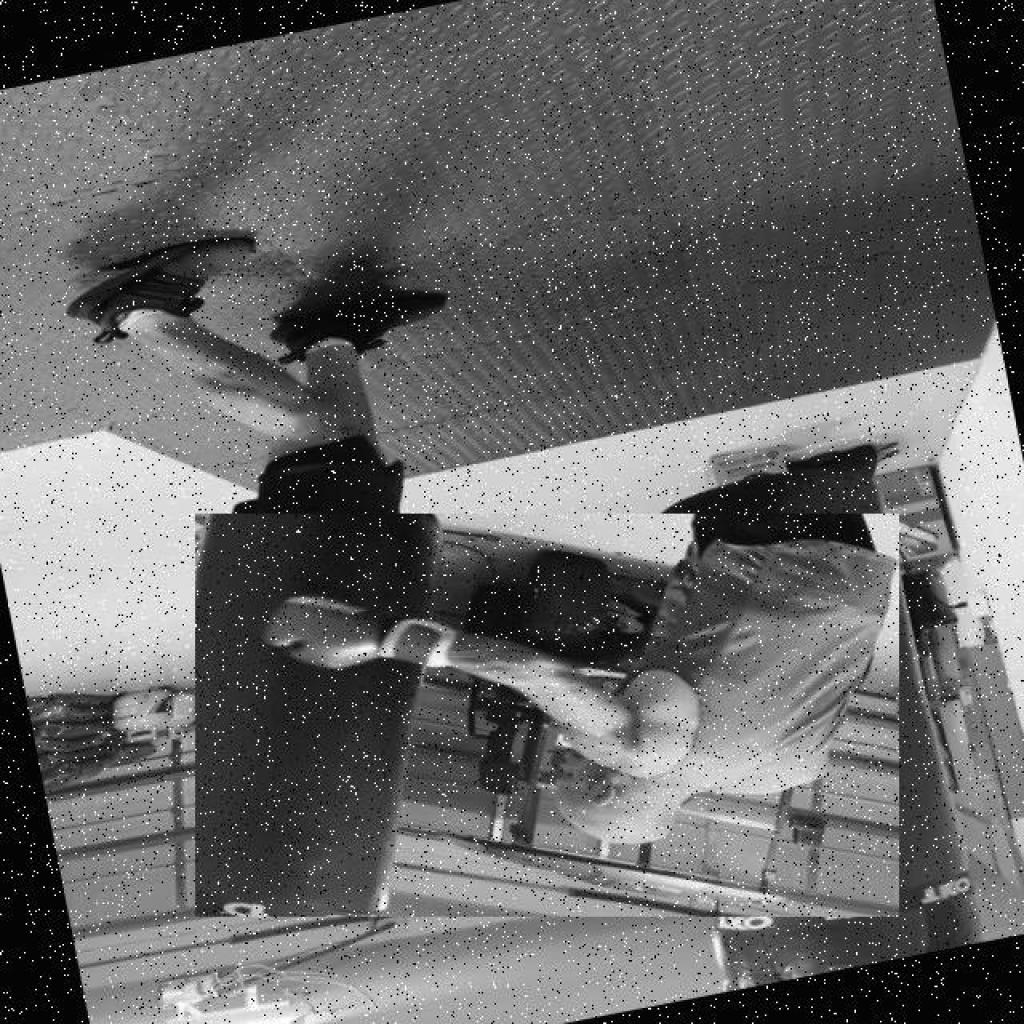bag: (616, 426, 1024, 996)
hook: (196, 514, 898, 916)
